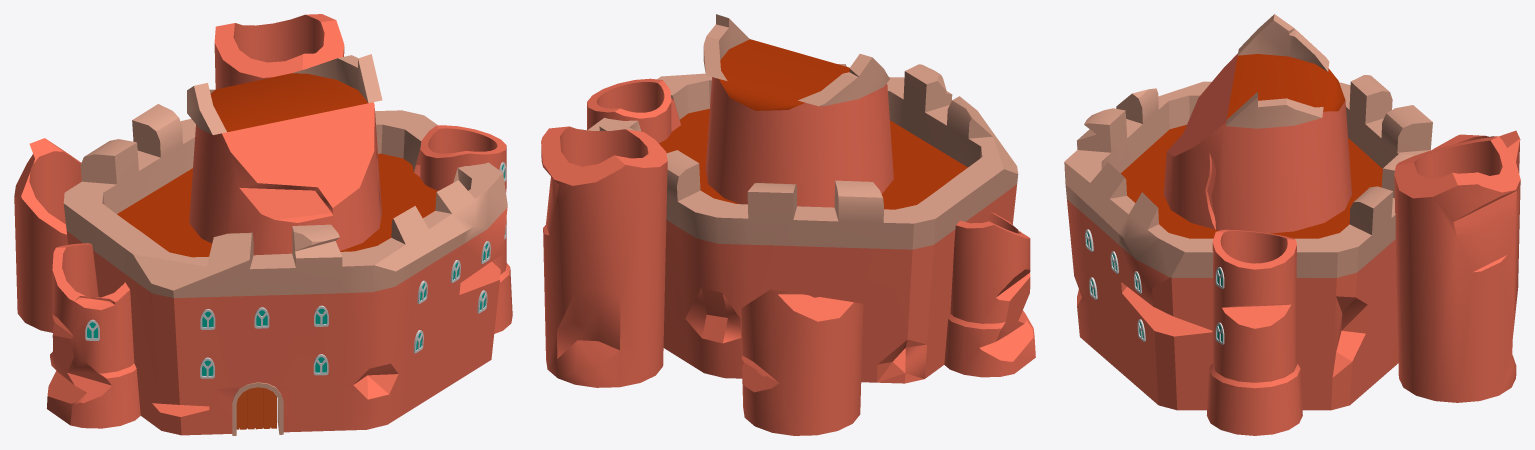
The model's file is CS_Big_Castle_Stage03.fbx.
The picture shows the model from 3 angles, left to right: view 1: azimuth 30°, elevation 25°; view 2: azimuth 150°, elevation 25°; view 3: azimuth 270°, elevation 25°; orthographic projection. The views are drawn at different scales.
Visible parts, largest first — view 1: Big_Castle_Stage3; view 2: Big_Castle_Stage3; view 3: Big_Castle_Stage3.
Part boxes in pixels (x1,y1,x2,y2): Big_Castle_Stage3: (14, 14, 512, 435); Big_Castle_Stage3: (541, 14, 1035, 435); Big_Castle_Stage3: (1064, 14, 1520, 435).
Bounding box in the file's own units: 901 × 555 × 819.
